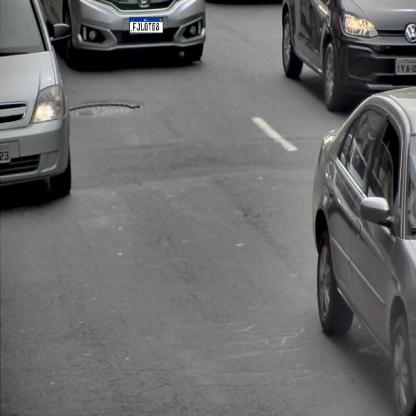PlacaM: (130, 18, 164, 34)
